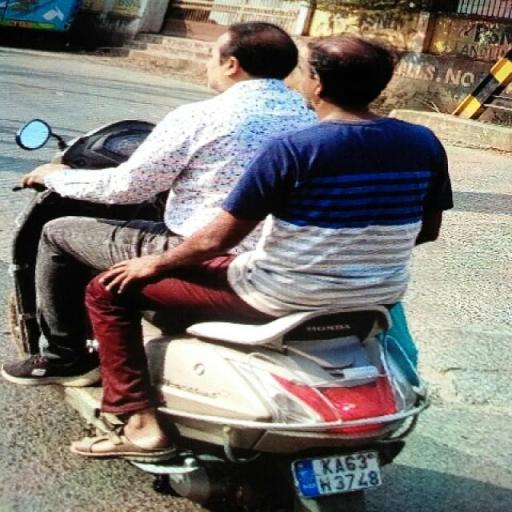bike: (7, 17, 454, 512)
numberplate: (294, 448, 393, 498)
withouthelmet: (307, 36, 393, 110), (217, 24, 297, 86)
